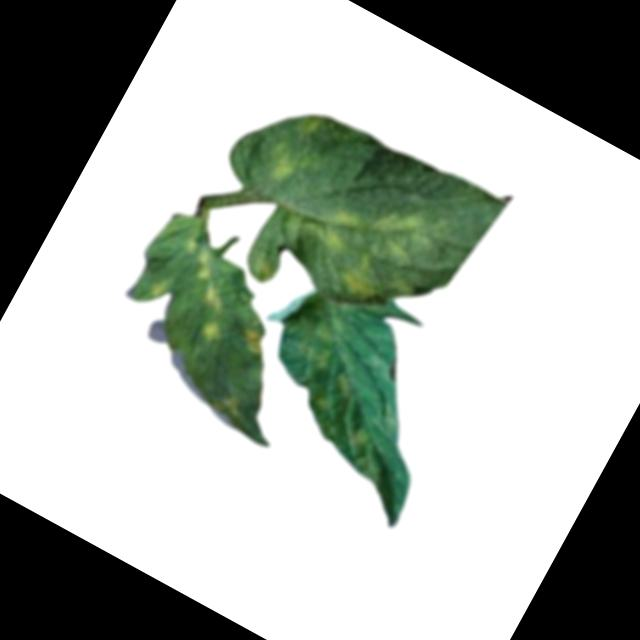Leaf_Mold: (290, 169, 448, 318), (274, 280, 362, 373), (298, 365, 387, 453), (257, 104, 338, 196), (176, 238, 222, 283), (232, 321, 267, 356), (195, 281, 228, 314), (207, 392, 241, 423), (196, 315, 226, 348), (144, 273, 173, 304)
